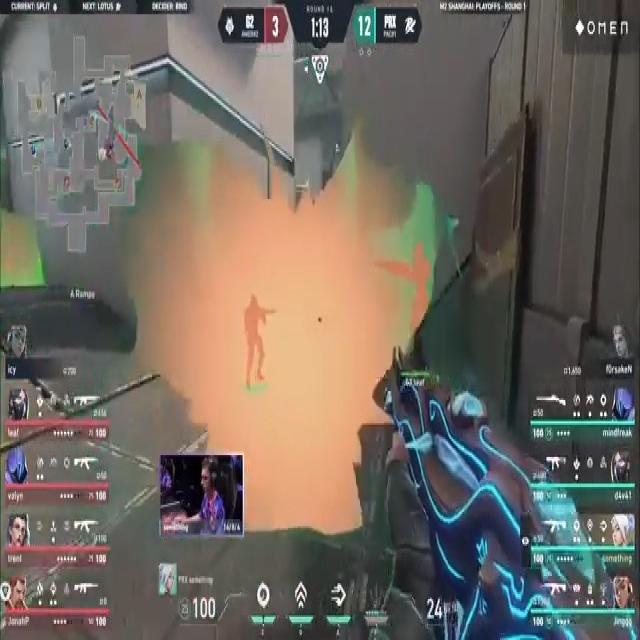enemy behind wall: (242, 291, 276, 399)
smoke: (136, 130, 457, 536)
